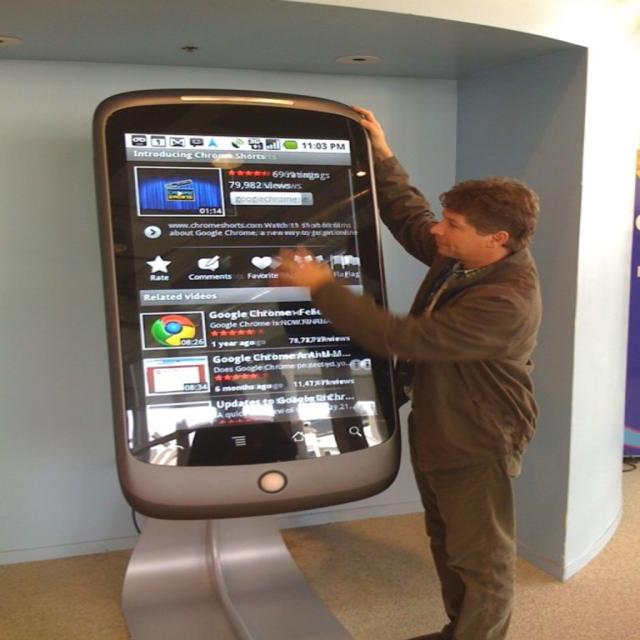Mobile-phone: (88, 90, 432, 528)
